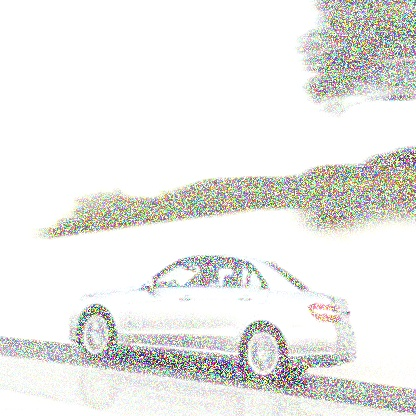Vehicle: (67, 253, 359, 387)
